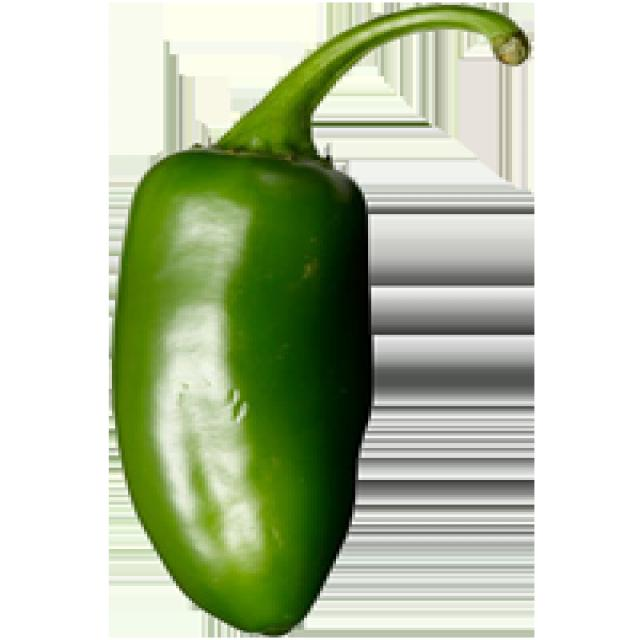aji: (85, 26, 508, 640)
